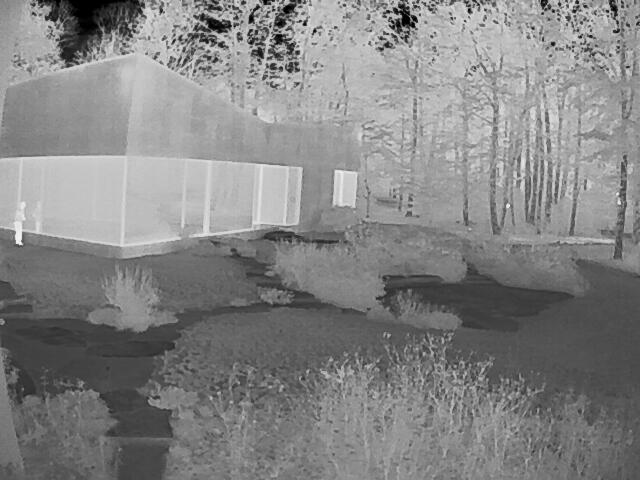person: (11, 201, 24, 245)
